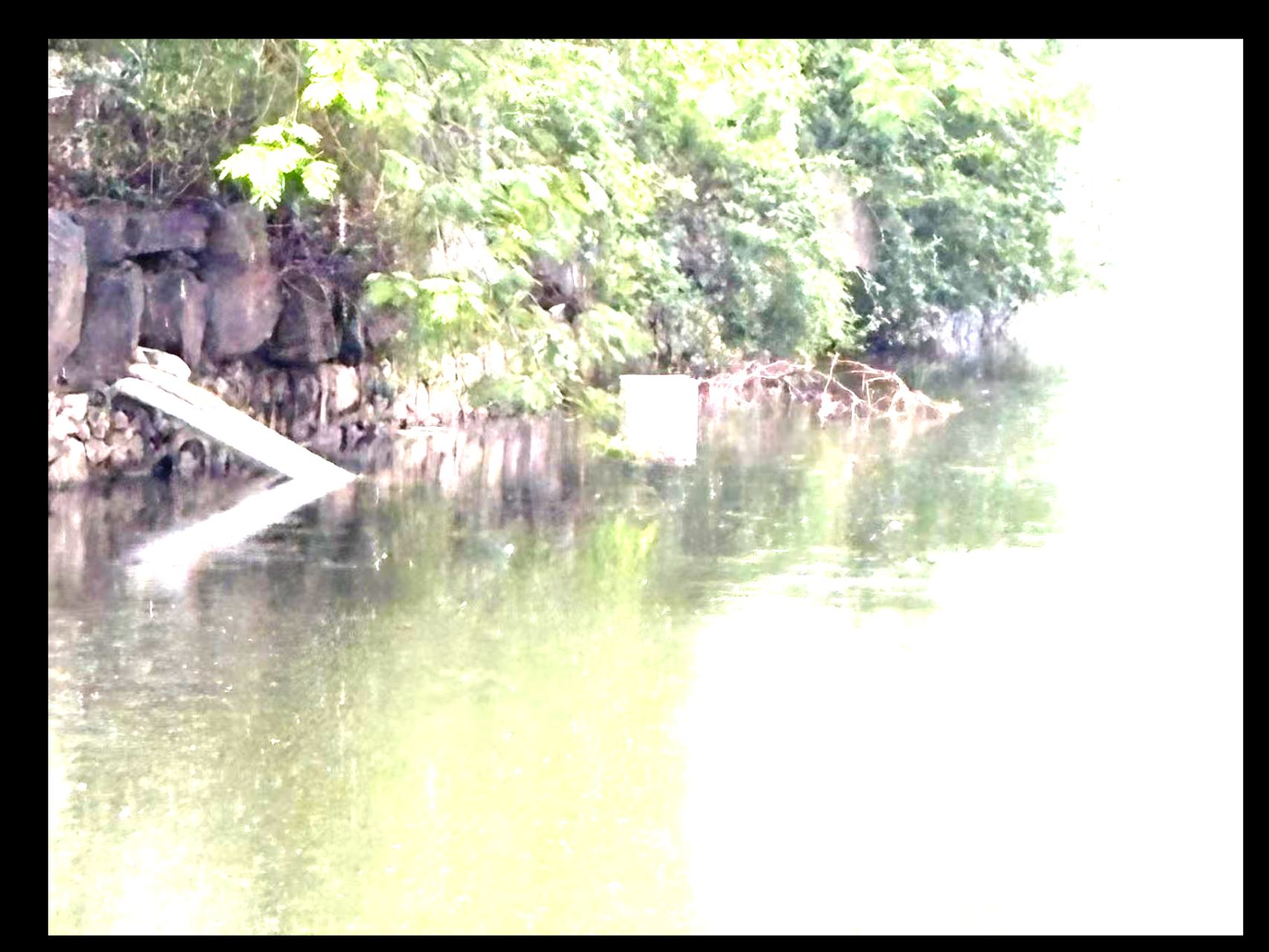Plastic wastes: (621, 371, 704, 431)
